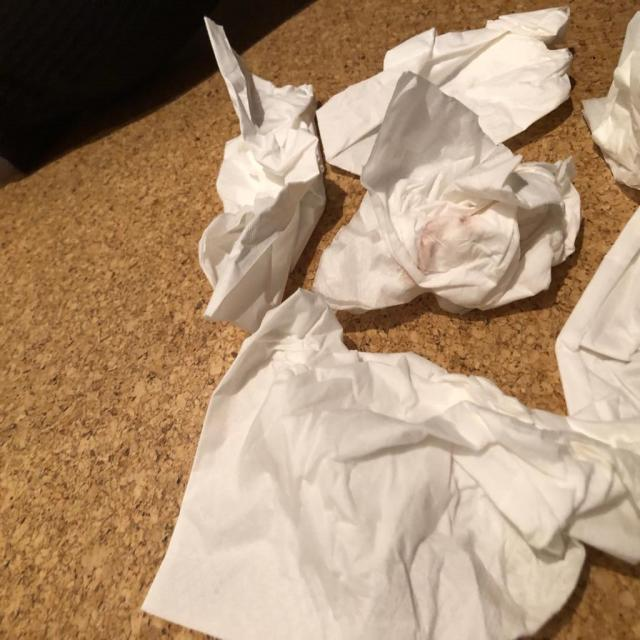kitchen paper: (142, 284, 590, 640), (314, 71, 582, 318), (314, 4, 577, 178), (197, 15, 330, 331), (555, 200, 640, 562), (578, 0, 640, 192)
